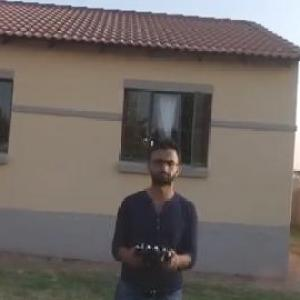follow: (102, 127, 199, 299)
